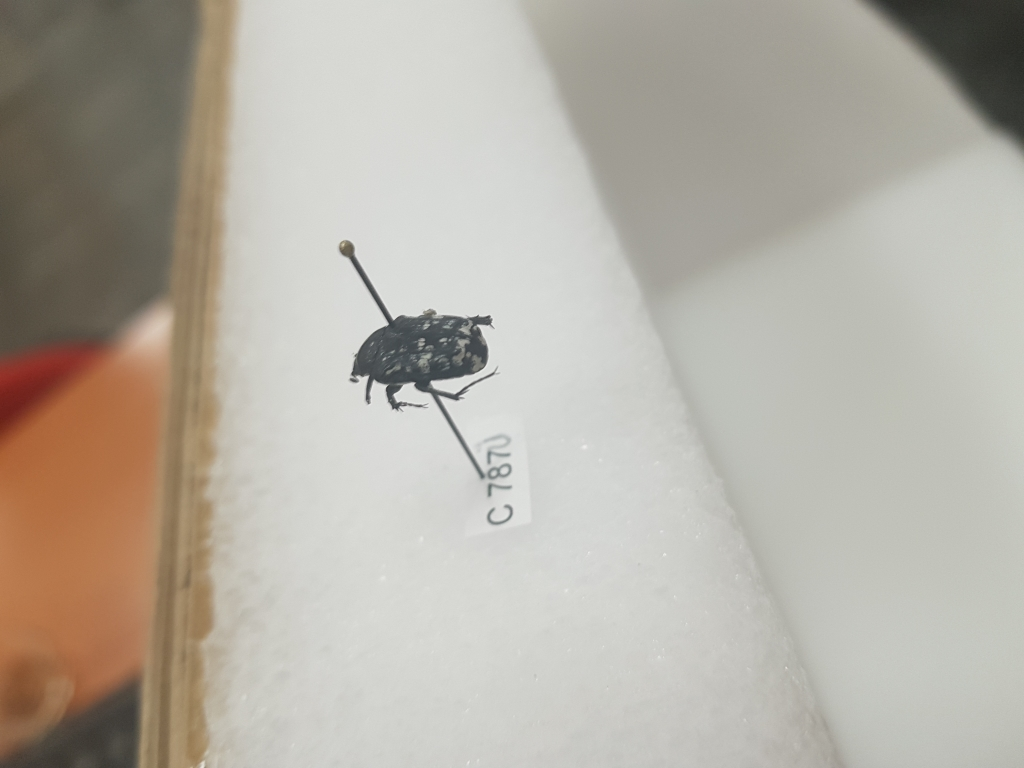Oxythyrea_albopicta: (352, 306, 505, 415)
